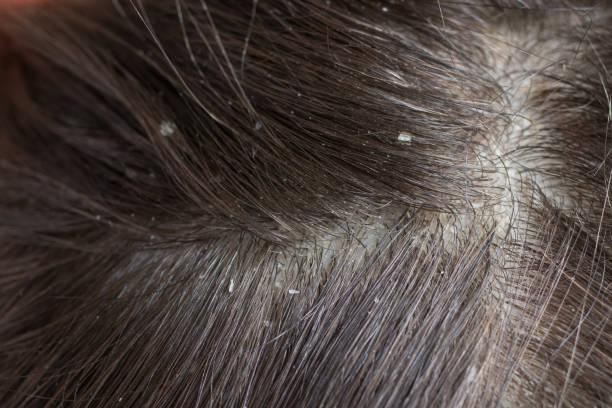dandruff: (284, 78, 338, 152), (267, 256, 312, 308), (378, 116, 424, 158), (236, 114, 266, 178), (359, 280, 388, 319), (152, 115, 181, 143), (215, 271, 242, 300), (141, 209, 161, 247), (374, 5, 391, 15)
